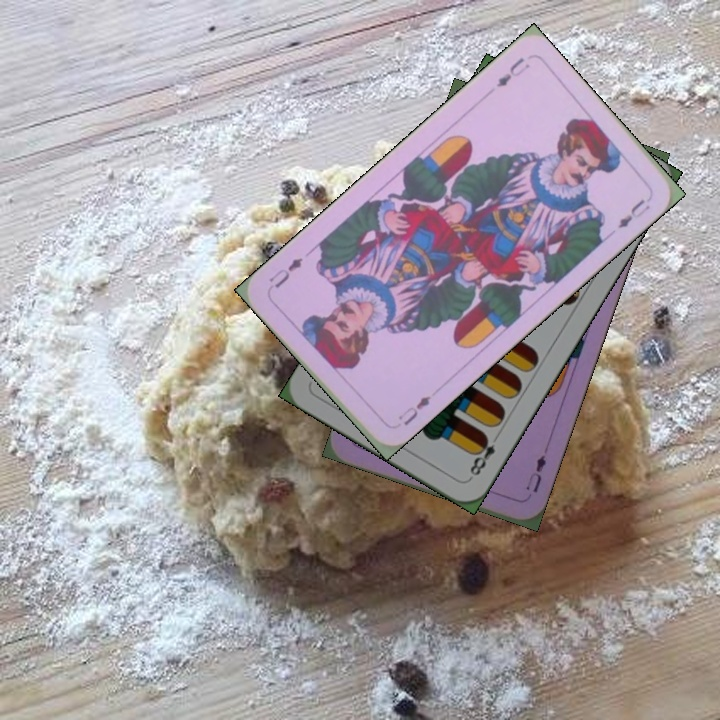E8: (465, 429, 503, 482)
EU: (394, 391, 434, 429), (492, 53, 533, 90), (521, 450, 549, 495)
